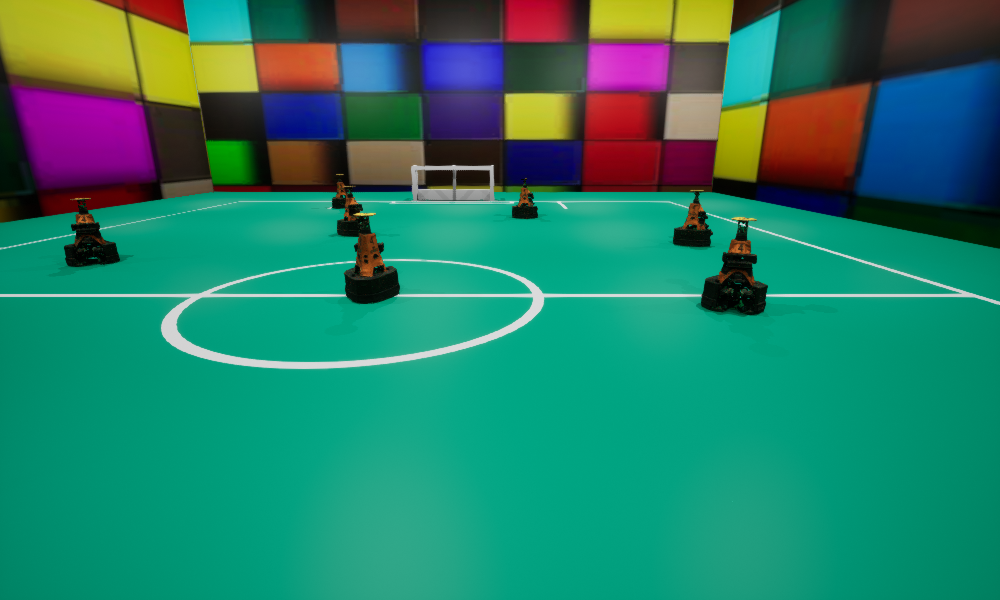0 orange robot TechUnited: (701, 217, 767, 313), (344, 213, 399, 303), (64, 198, 119, 266), (673, 190, 712, 246), (337, 186, 368, 236), (512, 178, 537, 218), (332, 174, 351, 208)
